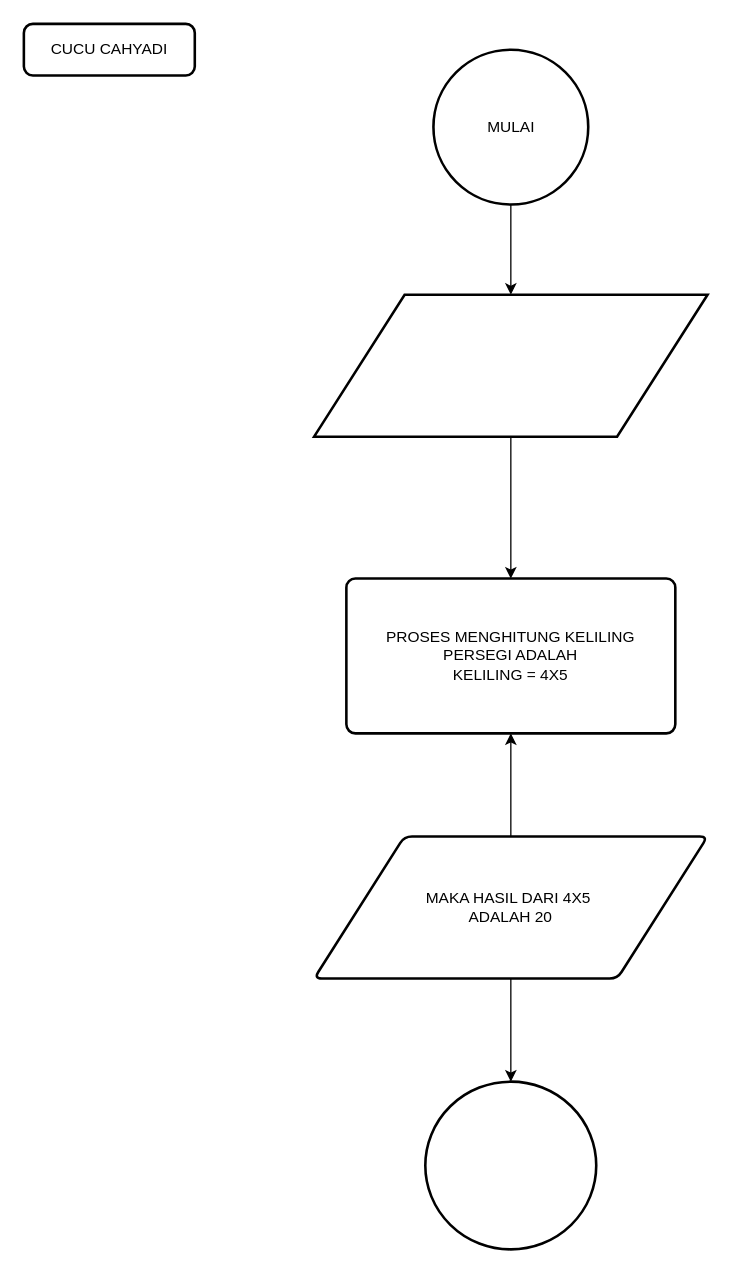
The diagram is 730 pixels wide and 1272 high, and some of its shapes have lost their labels. The shapes that lost their labels are listed below. From the top down, each one's centre as x and y in pixels, then its label:
At point (510, 365): "INPUT PERSEGI MEMILIKI SISI 5 CM".
At point (510, 1165): "SELESAI".
